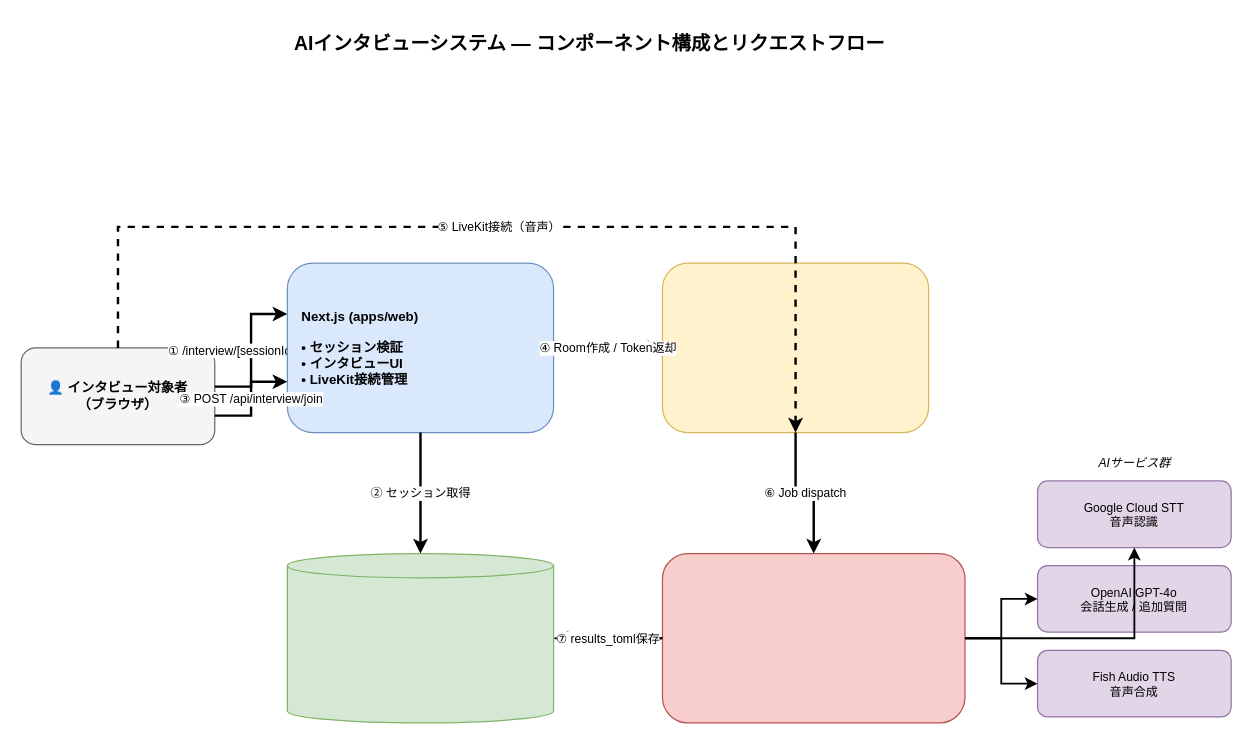
Some shapes in this 1252 by 744 pixel diagram are drawn without their labels. Here are the shapes that lost their labels. From the top down, the box of each, then its label:
(661, 262, 929, 433): LiveKit Cloud • Room作成 • Job dispatch • 音声ストリーミング
(286, 552, 554, 723): PostgreSQL / Supabase interview_sessions • config_toml • results_toml • status
(661, 552, 965, 723): Interview Agent (apps/interview-agent) • 質問ループ管理 • 文字起こし集約 • results_toml生成
